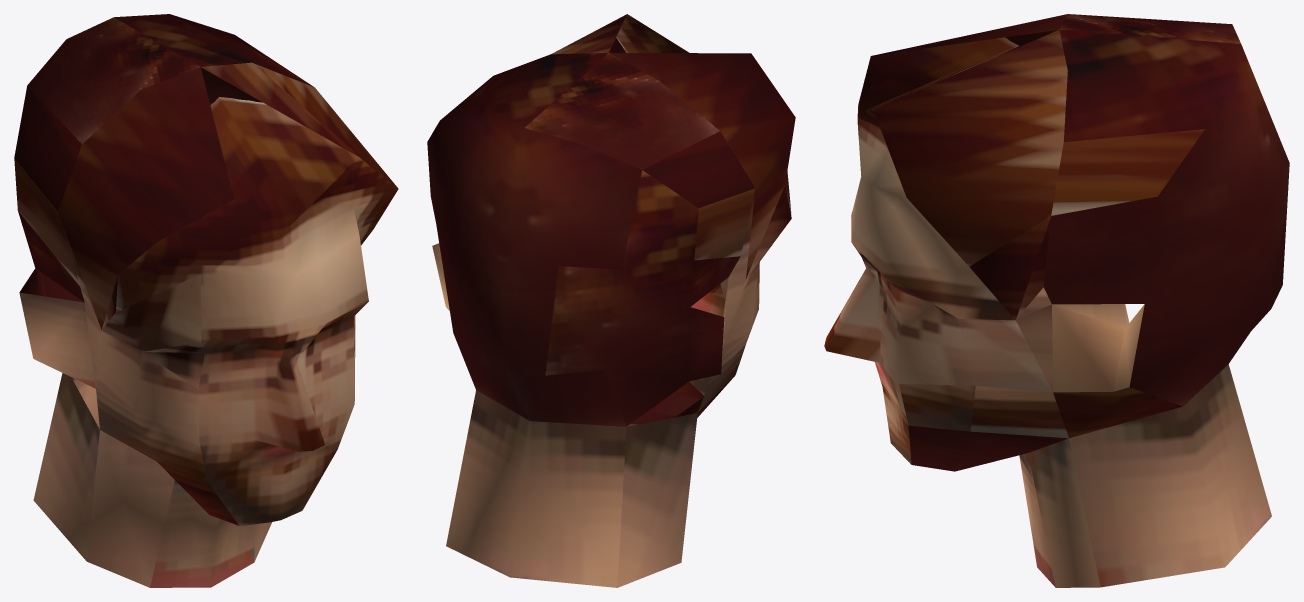
Rendered from new hero head.fbx.
3 views of the same model, side by side, from view 1: azimuth 30°, elevation 25°; view 2: azimuth 150°, elevation 25°; view 3: azimuth 270°, elevation 25° (orthographic). The views are drawn at different scales.
Parts seen in each view (by area): view 1: male_player; view 2: male_player; view 3: male_player.
Boxes of the visible parts, left/top/right/bottom form: male_player: left=14, top=14, right=398, bottom=587; male_player: left=427, top=14, right=795, bottom=587; male_player: left=824, top=14, right=1289, bottom=587.
Size of the model in its own units: 19.17 by 31.32 by 24.57.
